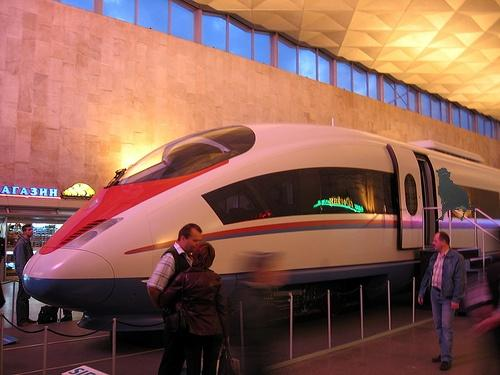tampered: (437, 168, 475, 221)
